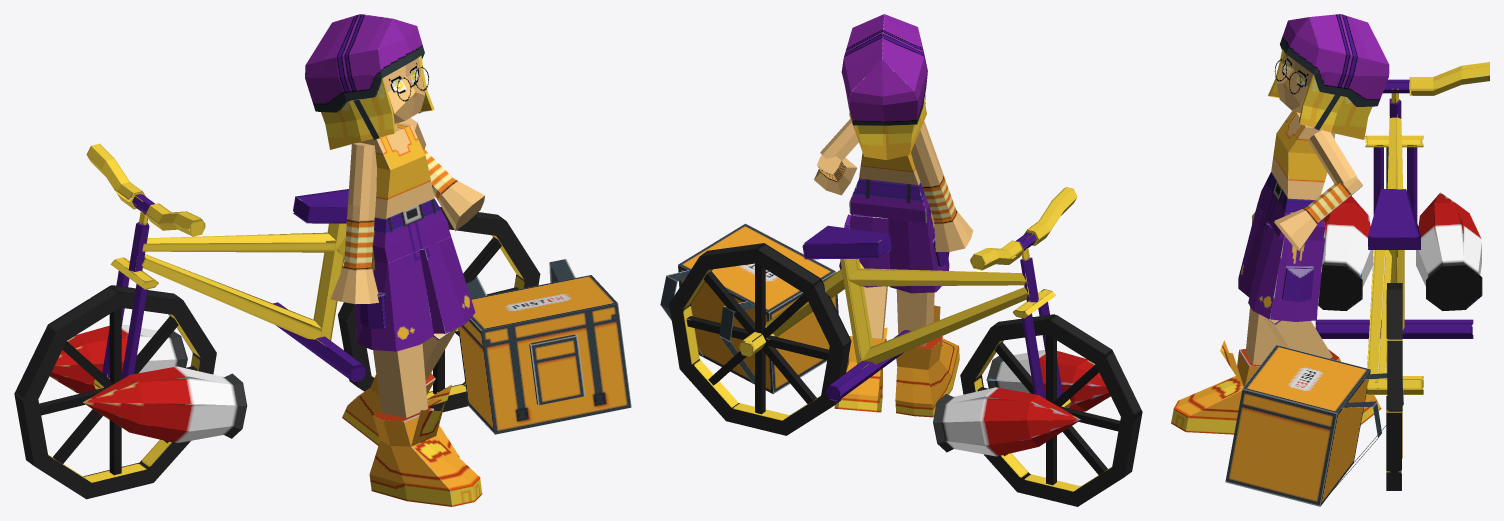
Rendered from crayonpose1.fbx.
3 views of the same model, side by side, from view 1: azimuth 30°, elevation 25°; view 2: azimuth 150°, elevation 25°; view 3: azimuth 270°, elevation 25° (orthographic). The views are drawn at different scales.
Visible parts, largest first — view 1: bag, cylinder_6, cylinder_14, helmet, rightlower, right_leg, head, front wheel, torso, cylinder_4, cylinder_13, left_leg (+16 smaller); view 2: cylinder_4, bag, cylinder_6, helmet, cylinder_13, back wheel, rightlower, front wheel, cylinder_14, right_leg, legs, cylinder_3 (+20 smaller); view 3: bag, helmet, cylinder_13, left_leg, cylinder_14, head, rightlower, cylinder_4, torso, cycle, cylinder_15, cylinder (+14 smaller).
Part boxes in pixels (x1,y1,x2,y2): bag: (458, 275, 631, 434); cylinder_6: (14, 285, 216, 499); cylinder_14: (83, 366, 247, 443); helmet: (305, 14, 424, 112); rightlower: (369, 400, 482, 506); right_leg: (355, 250, 433, 351); head: (321, 55, 434, 149); front wheel: (39, 307, 200, 475); torso: (357, 122, 434, 219); cylinder_4: (338, 206, 540, 412); cylinder_13: (49, 324, 187, 393); left_leg: (419, 233, 475, 333); cylinder_4: (669, 243, 851, 435); bag: (678, 223, 838, 393); cylinder_6: (960, 314, 1142, 506); helmet: (841, 14, 927, 125); cylinder_13: (933, 387, 1080, 456); back wheel: (686, 263, 828, 416); rightlower: (895, 305, 959, 417); front wheel: (977, 334, 1119, 487); cylinder_14: (986, 350, 1110, 411); right_leg: (888, 213, 949, 293); legs: (849, 178, 931, 222); cylinder_3: (860, 286, 1029, 364); bag: (1225, 345, 1370, 506); helmet: (1280, 14, 1389, 106); cylinder_13: (1416, 192, 1482, 310); left_leg: (1248, 223, 1325, 321); cylinder_14: (1318, 195, 1372, 310); head: (1268, 49, 1372, 139); rightlower: (1171, 340, 1260, 434); cylinder_4: (1386, 283, 1402, 490); torso: (1271, 110, 1335, 199); cycle: (1368, 189, 1420, 249); cylinder_15: (1315, 319, 1473, 338); cylinder: (1367, 250, 1391, 388).
Size of the model in its own units: 222 by 180 by 120.
1 material, 1 textured.
